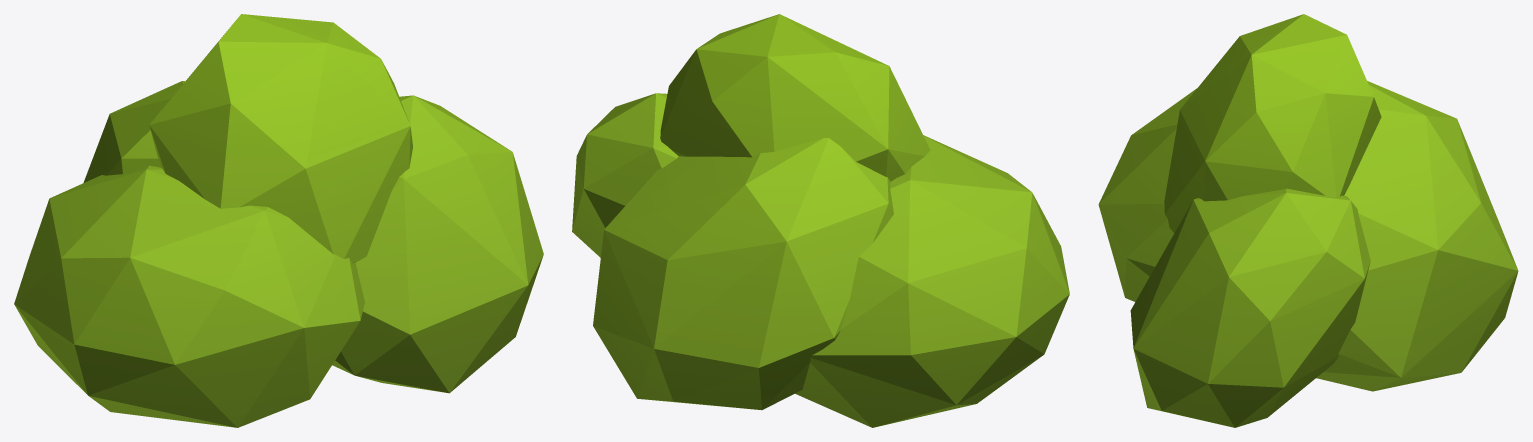
File: Bush_4.fbx
The picture shows the model from 3 angles, left to right: view 1: azimuth 30°, elevation 25°; view 2: azimuth 150°, elevation 25°; view 3: azimuth 270°, elevation 25°; orthographic projection. The views are drawn at different scales.
Parts seen in each view (by area): view 1: Bush_4; view 2: Bush_4; view 3: Bush_4.
Boxes of the visible parts, left/top/right/bottom form: Bush_4: left=14, top=14, right=543, bottom=427; Bush_4: left=572, top=14, right=1069, bottom=427; Bush_4: left=1098, top=14, right=1518, bottom=427.
Size of the model in its own units: 399 by 274 by 318.
